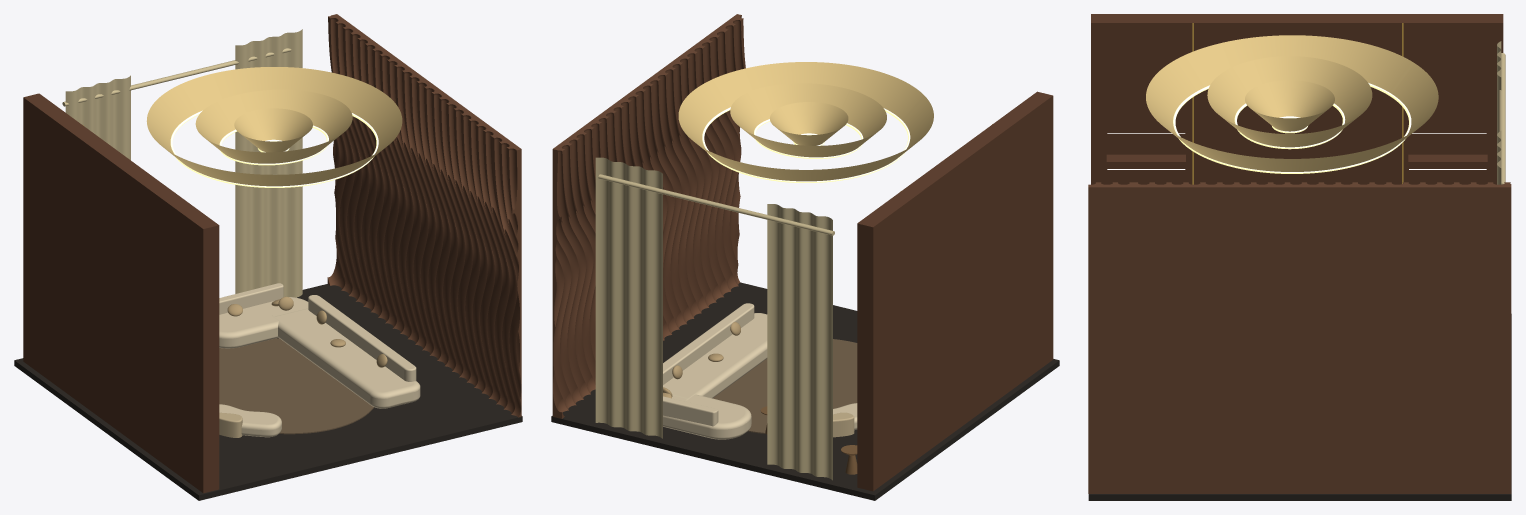
Rendered from watch-table-room.glb.
3 views of the same model, side by side, from view 1: azimuth 30°, elevation 25°; view 2: azimuth 150°, elevation 25°; view 3: azimuth 270°, elevation 25° (orthographic). The views are drawn at different scales.
Parts seen in each view (by area): view 1: cabinet-037, wall_design-025, floor-021, sofa-010, chandelier-023, curtain-008, carpet-017, chandelier-022, curtain-009, chandelier-024, sofa-006, curtain-039 (+2 smaller); view 2: cabinet-037, wall_design-025, curtain-008, curtain-009, floor-021, chandelier-023, sofa-010, chandelier-022, carpet-017, chandelier-024, curtain-039, ring_light-019; view 3: wall_design-025, cabinet-037, chandelier-023, chandelier-022, chandelier-024, floor-021, ring_light-019, curtain-039.
Part boxes in pixels (box(x1,y1,x2,y2)): cabinet-037: box(23, 93, 219, 493); wall_design-025: box(327, 14, 521, 417); floor-021: box(14, 284, 522, 500); sofa-010: box(219, 283, 420, 408); chandelier-023: box(146, 67, 402, 186); curtain-008: box(235, 29, 302, 297); carpet-017: box(219, 338, 374, 434); chandelier-022: box(195, 89, 352, 163); curtain-009: box(65, 75, 130, 160); chandelier-024: box(234, 108, 312, 152); sofa-006: box(219, 404, 281, 437); curtain-039: box(62, 48, 291, 106); cabinet-037: box(857, 91, 1053, 491); wall_design-025: box(552, 14, 745, 418); curtain-008: box(595, 157, 662, 438); curtain-009: box(767, 204, 832, 480); floor-021: box(551, 282, 1059, 500); chandelier-023: box(678, 62, 933, 181); sofa-010: box(663, 303, 767, 439); chandelier-022: box(730, 83, 886, 157); carpet-017: box(713, 339, 857, 433); chandelier-024: box(770, 102, 848, 145); curtain-039: box(598, 174, 834, 235); ring_light-019: box(702, 107, 910, 182); wall_design-025: box(1088, 182, 1511, 493); cabinet-037: box(1091, 14, 1503, 184); chandelier-023: box(1146, 35, 1438, 171); chandelier-022: box(1207, 56, 1372, 147); chandelier-024: box(1245, 80, 1334, 131); floor-021: box(1088, 314, 1511, 500); ring_light-019: box(1173, 83, 1411, 173); curtain-039: box(1499, 53, 1505, 184).
Bounding box in the file's own units: 30.37 × 24.74 × 30.02.
